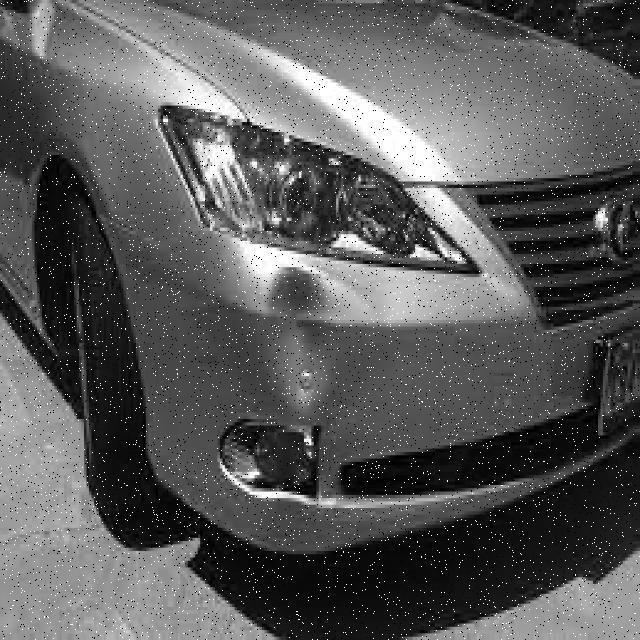front-bumper-dent: (95, 241, 596, 541)
